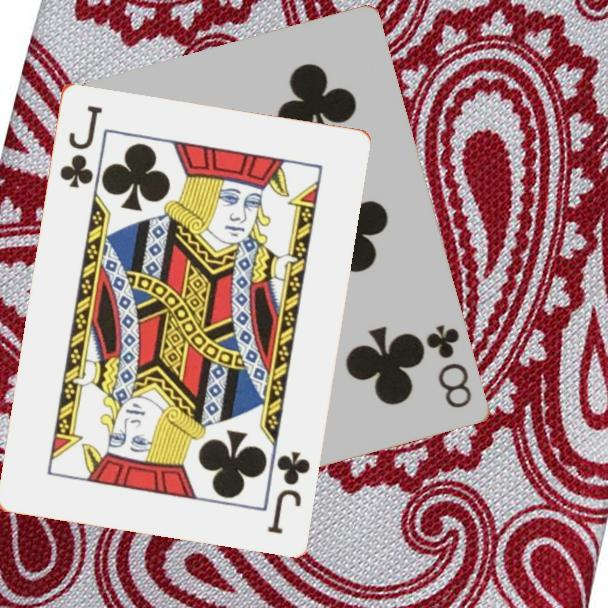c08: (423, 321, 475, 412)
c11: (55, 101, 105, 190), (263, 447, 313, 536)
